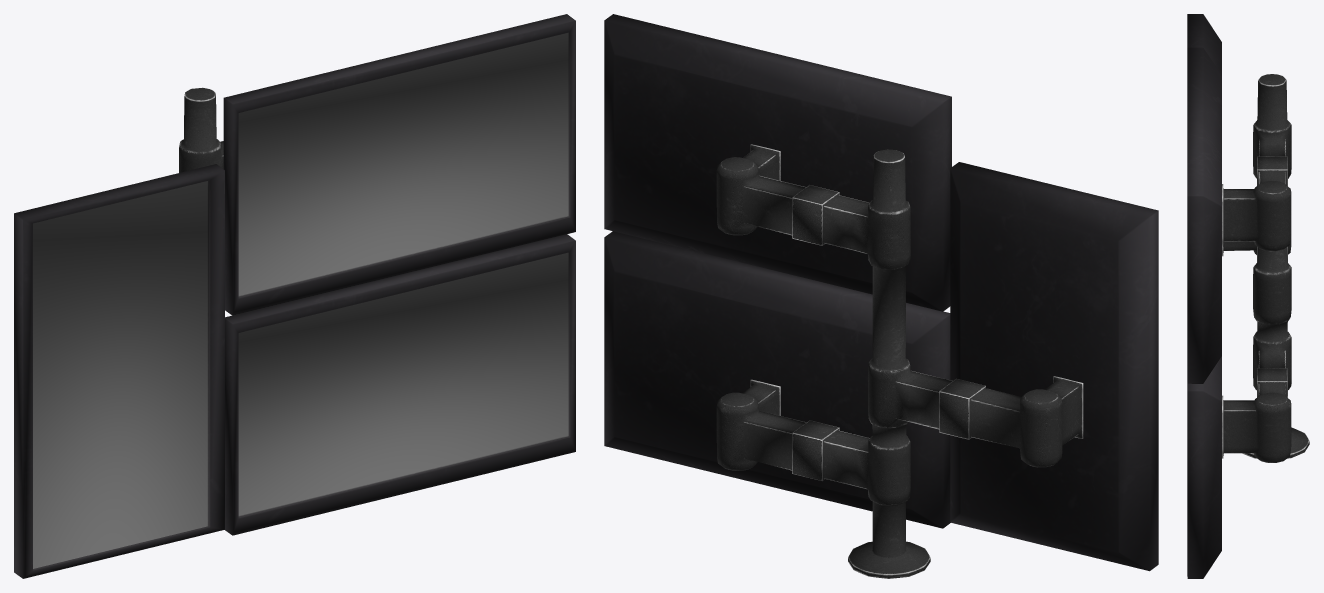
The model's file is TripleMonitor_LEFT.fbx.
3 views of the same model, side by side, from view 1: azimuth 30°, elevation 25°; view 2: azimuth 150°, elevation 25°; view 3: azimuth 270°, elevation 25° (orthographic). The views are drawn at different scales.
Visible parts, largest first — view 1: TripleMonitor_L; view 2: TripleMonitor_L; view 3: TripleMonitor_L.
Part boxes in pixels (left/top/right/bottom): TripleMonitor_L: left=14, top=14, right=575, bottom=578; TripleMonitor_L: left=604, top=14, right=1158, bottom=578; TripleMonitor_L: left=1187, top=14, right=1309, bottom=578.
Bounding box in the file's own units: 101 × 76.84 × 21.8.
Materials: 2 (2 with a texture image).
